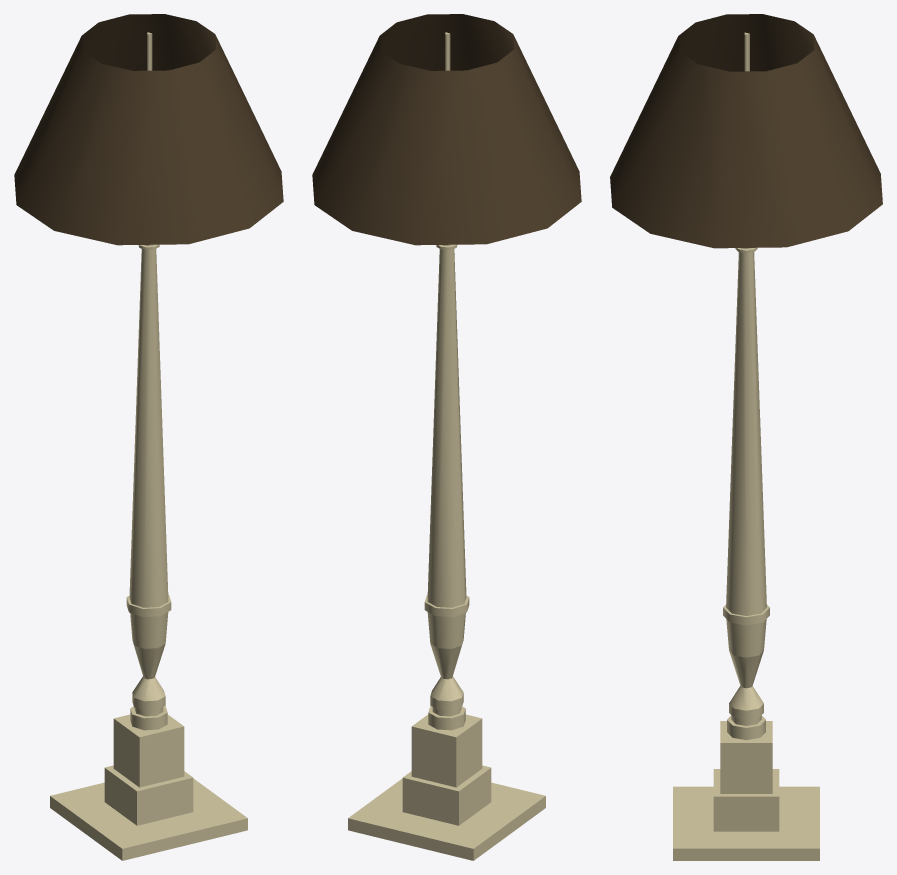
3 views of the same model, side by side, from view 1: azimuth 30°, elevation 25°; view 2: azimuth 150°, elevation 25°; view 3: azimuth 270°, elevation 25° (orthographic).
Visible parts, largest first — view 1: Mesh2_Light_Floor_Traditional1_Model; view 2: Mesh2_Light_Floor_Traditional1_Model; view 3: Mesh2_Light_Floor_Traditional1_Model.
Boxes of the visible parts, bbox=[...] form: Mesh2_Light_Floor_Traditional1_Model: bbox=[14, 14, 283, 860]; Mesh2_Light_Floor_Traditional1_Model: bbox=[312, 14, 581, 860]; Mesh2_Light_Floor_Traditional1_Model: bbox=[610, 14, 882, 860].
Bounding box in the file's own units: 0.3103 × 0.9988 × 0.3103.
